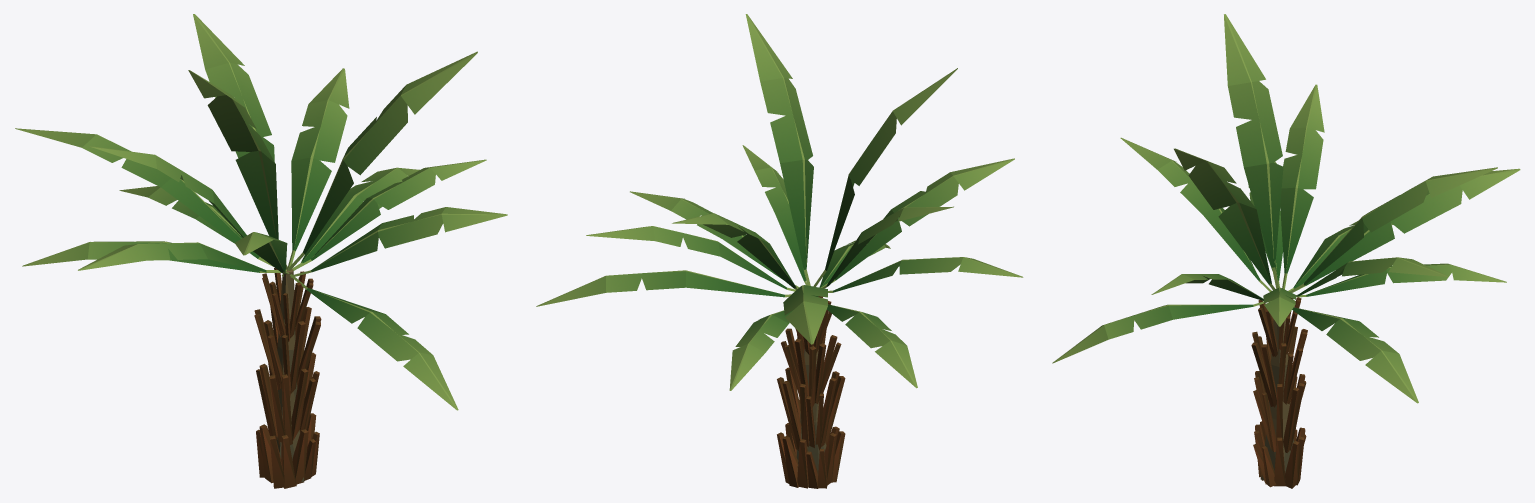
Rendered from Plant_1.fbx.
The picture shows the model from 3 angles, left to right: view 1: azimuth 30°, elevation 25°; view 2: azimuth 150°, elevation 25°; view 3: azimuth 270°, elevation 25°; orthographic projection. The views are drawn at different scales.
Parts seen in each view (by area): view 1: polySurface541; view 2: polySurface541; view 3: polySurface541.
Part boxes in pixels (x1,y1,x2,y2): polySurface541: (15, 14, 507, 488); polySurface541: (536, 14, 1023, 488); polySurface541: (1052, 14, 1520, 488).
Bounding box in the file's own units: 762 × 758 × 785.
